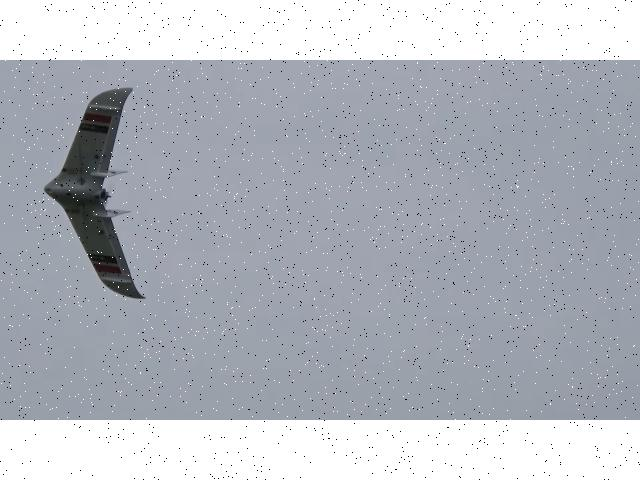Anti-Drone: (44, 88, 146, 299)
